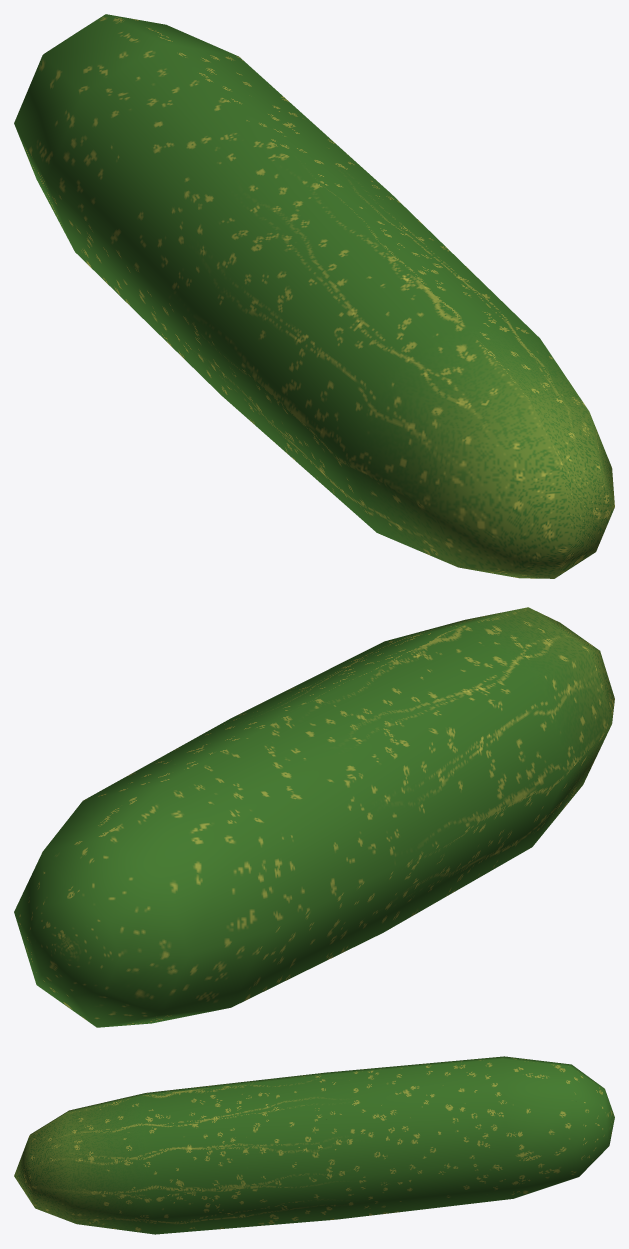
The model's file is cetriolo.fbx.
3 renders of one model, top to bottom at view 1: azimuth 30°, elevation 25°; view 2: azimuth 150°, elevation 25°; view 3: azimuth 270°, elevation 25°, orthographic. The views are drawn at different scales.
Parts seen in each view (by area): view 1: Circle.001; view 2: Circle.001; view 3: Circle.001.
Boxes of the visible parts, x1,y1,x2,y2 form: Circle.001: (14,14,614,578); Circle.001: (14,607,614,1027); Circle.001: (14,1056,614,1234).
Size of the model in its own units: 109 by 132 by 416.
